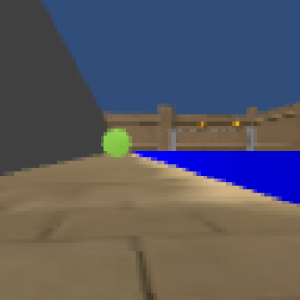goodGoal: (100, 125, 135, 163)
goodGoalMulti: (231, 118, 244, 131), (197, 119, 210, 130)
platform: (135, 148, 300, 207)
wall: (1, 1, 104, 179), (246, 126, 259, 152), (167, 129, 179, 150)
